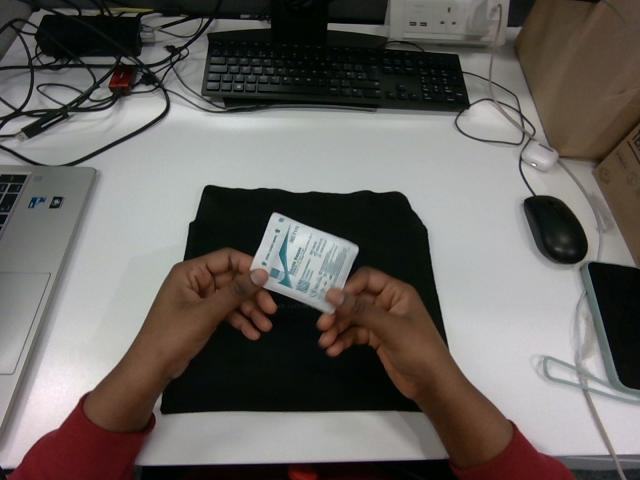gauze: (251, 212, 358, 311)
